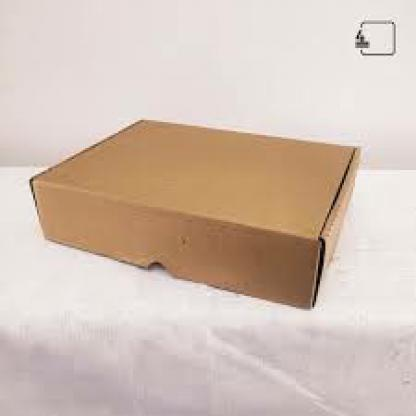box: (20, 109, 372, 337)
